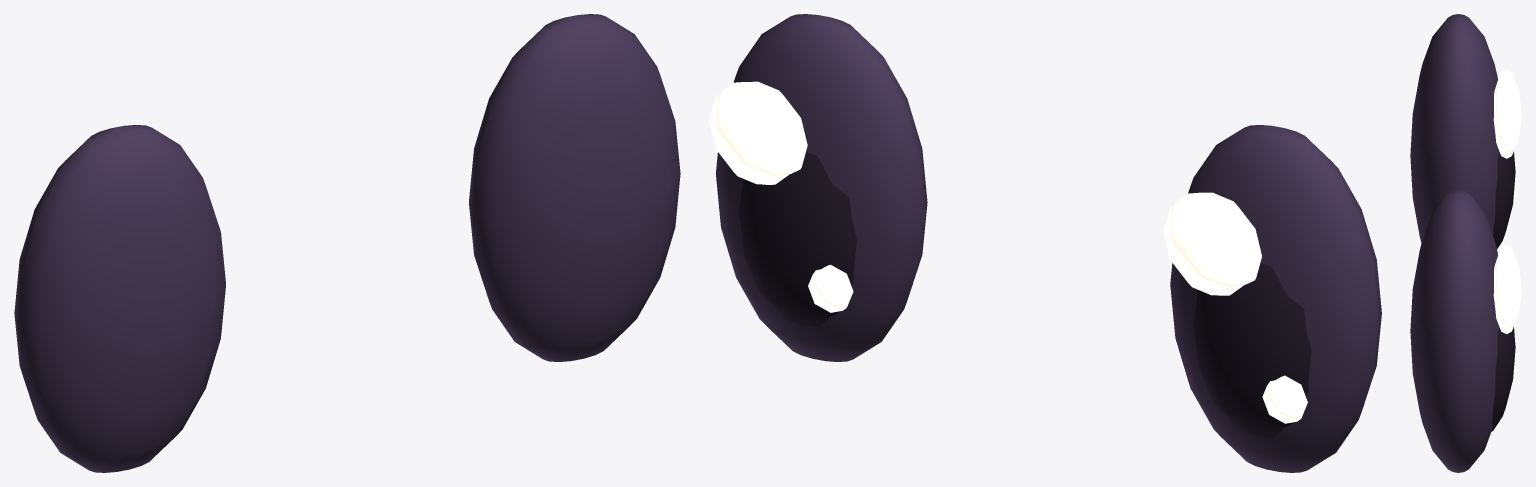
File: Eyes_Big.fbx
3 renders of one model, left to right at view 1: azimuth 30°, elevation 25°; view 2: azimuth 150°, elevation 25°; view 3: azimuth 270°, elevation 25°, orthographic. The views are drawn at different scales.
Parts seen in each view (by area): view 1: Eye, Eye.001; view 2: Eye.001, Eye, Eye_Pupil.001, Eye_Pupil, Eye_Sparkle.002, Eye_Sparkle, Eye_Sparkle.001, Eye_Sparkle.003; view 3: Eye, Eye.001, Eye_Sparkle.002, Eye_Sparkle, Eye_Pupil, Eye_Pupil.001.
Boxes of the visible parts, x1,y1,x2,y2 form: Eye: (469, 14, 680, 361); Eye.001: (14, 125, 225, 472); Eye.001: (1170, 125, 1381, 472); Eye: (715, 14, 927, 361); Eye_Pupil.001: (1193, 263, 1311, 437); Eye_Pupil: (739, 152, 856, 326); Eye_Sparkle.002: (1163, 192, 1261, 295); Eye_Sparkle: (709, 81, 807, 184); Eye_Sparkle.001: (808, 264, 853, 312); Eye_Sparkle.003: (1262, 375, 1307, 423); Eye: (1410, 189, 1499, 472); Eye.001: (1410, 14, 1499, 242); Eye_Sparkle.002: (1493, 69, 1521, 158); Eye_Sparkle: (1493, 244, 1521, 334); Eye_Pupil: (1491, 327, 1515, 431); Eye_Pupil.001: (1493, 151, 1515, 248).
Bounding box in the file's own units: 42.02 × 21 × 7.77.
